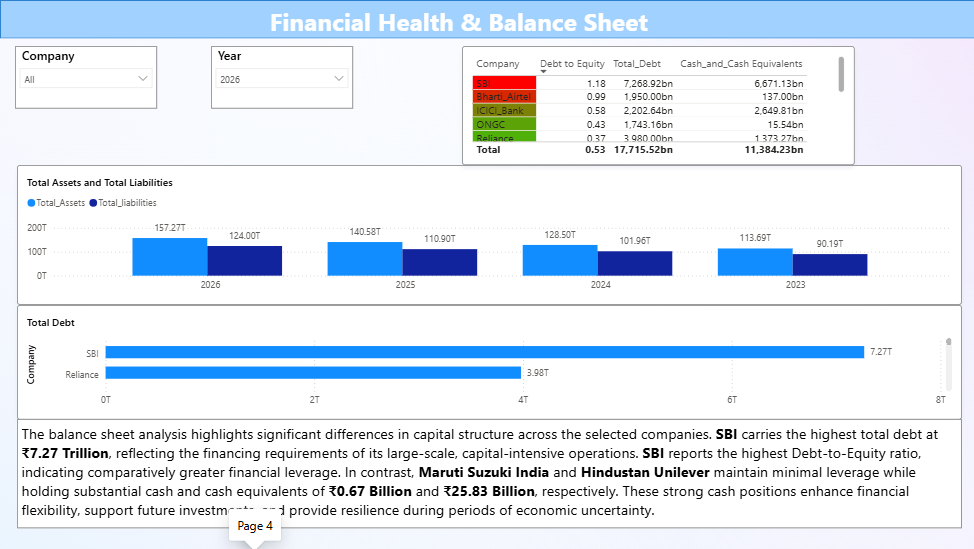

Layout of this report page (visuals, bound fields, positions):
{"tool":"powerbi","page":{"name":"Page 4","canvas":[1280,720],"ordinal":3},"visuals":[{"type":"clusteredColumnChart","title":"Total Assets and Total Liabilities","fields":{"Category":["Dim_Year.Year"],"Y":["Balance Sheet.Total_Assets","Balance Sheet.Total_liabilities"]},"box":[21.6,216,1237,182.9],"z":0},{"type":"slicer","fields":{"Values":["Dim_Company.Company"]},"box":[20.2,60.5,185.8,82.1],"z":1000},{"type":"clusteredBarChart","title":"Total Debt","fields":{"Category":["Dim_Company.Company"],"Y":["Balance Sheet.Total_Debt"]},"box":[21.6,398.9,1237,149.8],"z":2000},{"type":"tableEx","fields":{"Values":["Dim_Company.Company","Market_Cap.Debt to Equity","Balance Sheet.Total_Debt","Balance Sheet.Cash_and_Cash Equivalents"]},"box":[604.8,60.5,514.1,155.5],"z":3000},{"type":"shape","box":[0,0,1280.2,50.4],"z":4000},{"type":"slicer","fields":{"Values":["Dim_Year.Year"]},"box":[276.5,60.5,185.8,82.1],"z":5000},{"type":"textbox","box":[21.6,548.6,1237,142.6],"z":6000},{"type":"textbox","box":[348.5,0,511.2,54.7],"z":7000}]}

Visuals, with their boxes in screenshot pixels (x1, y1, x2, y2), scaled from the page's 1280x720 canvas onto the 974x549 screenshot:
"Total Assets and Total Liabilities" clusteredColumnChart: left=16, top=165, right=958, bottom=304
slicer - Dim_Company.Company: left=15, top=46, right=157, bottom=109
"Total Debt" clusteredBarChart: left=16, top=304, right=958, bottom=418
tableEx - Dim_Company.Company x Market_Cap.Debt to Equity: left=460, top=46, right=851, bottom=165
shape: left=0, top=0, right=973, bottom=38
slicer - Dim_Year.Year: left=210, top=46, right=352, bottom=109
textbox: left=16, top=418, right=958, bottom=527
textbox: left=265, top=0, right=654, bottom=42
